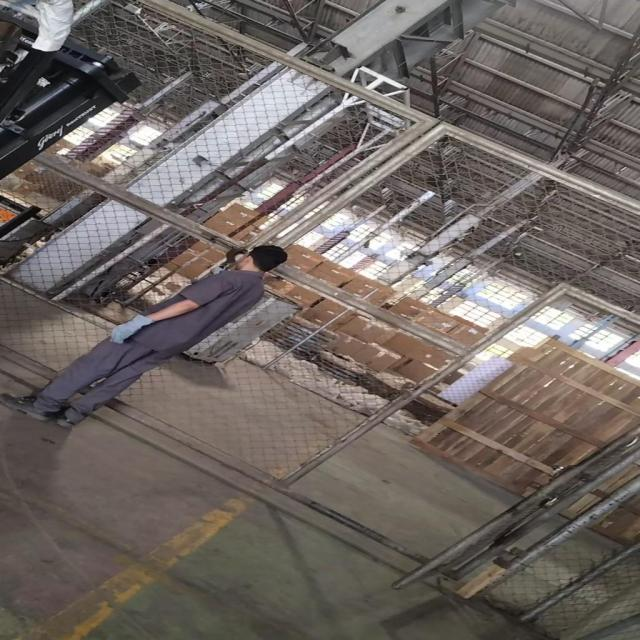Gloves-Detection: (107, 313, 151, 353)
